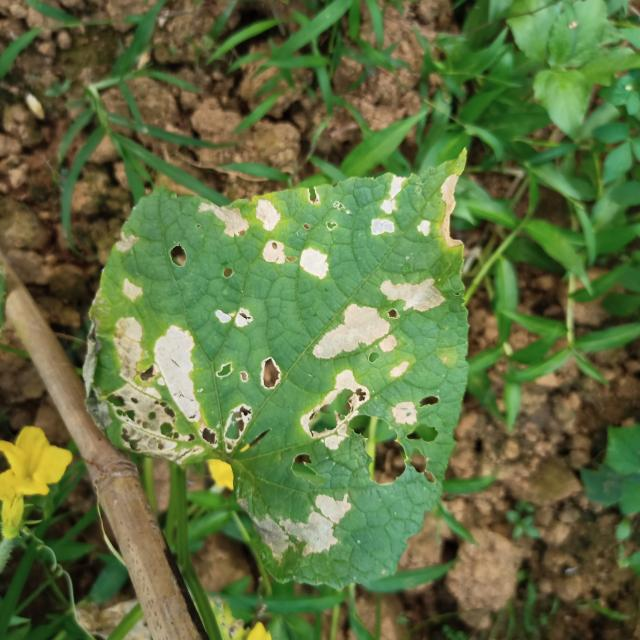disease_cucumber: (196, 161, 481, 381), (90, 232, 281, 469), (252, 353, 444, 574)
